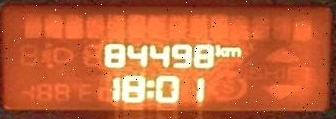0: (153, 73, 180, 102)
1: (191, 73, 207, 103), (110, 74, 120, 101)
4: (125, 43, 148, 68), (148, 43, 169, 67)
8: (121, 74, 144, 103), (103, 41, 126, 67), (192, 43, 214, 68)
9: (170, 43, 192, 68)
X: (224, 45, 242, 57), (214, 43, 226, 56), (146, 78, 152, 99)
